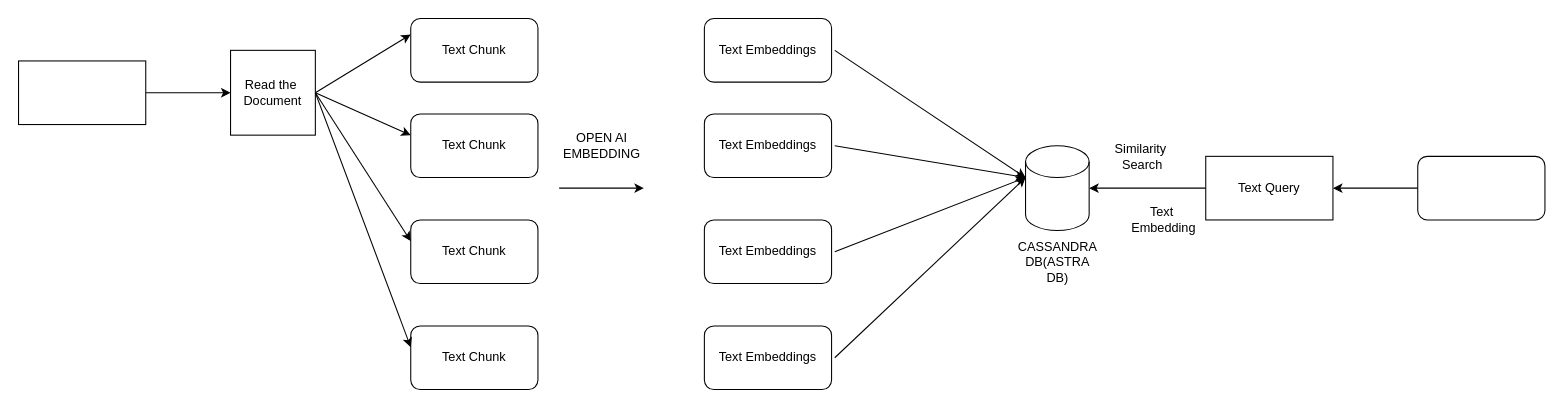
The diagram is 1563 pixels wide and 408 high, and some of its shapes have lost their labels. The shapes that lost their labels are listed below. From the top down, each one's box as (x1, y1, x2, y2) in pixels, then its label:
(17, 60, 146, 125): PDF File
(1024, 145, 1089, 231): Vector Database
(1417, 155, 1545, 220): Human
